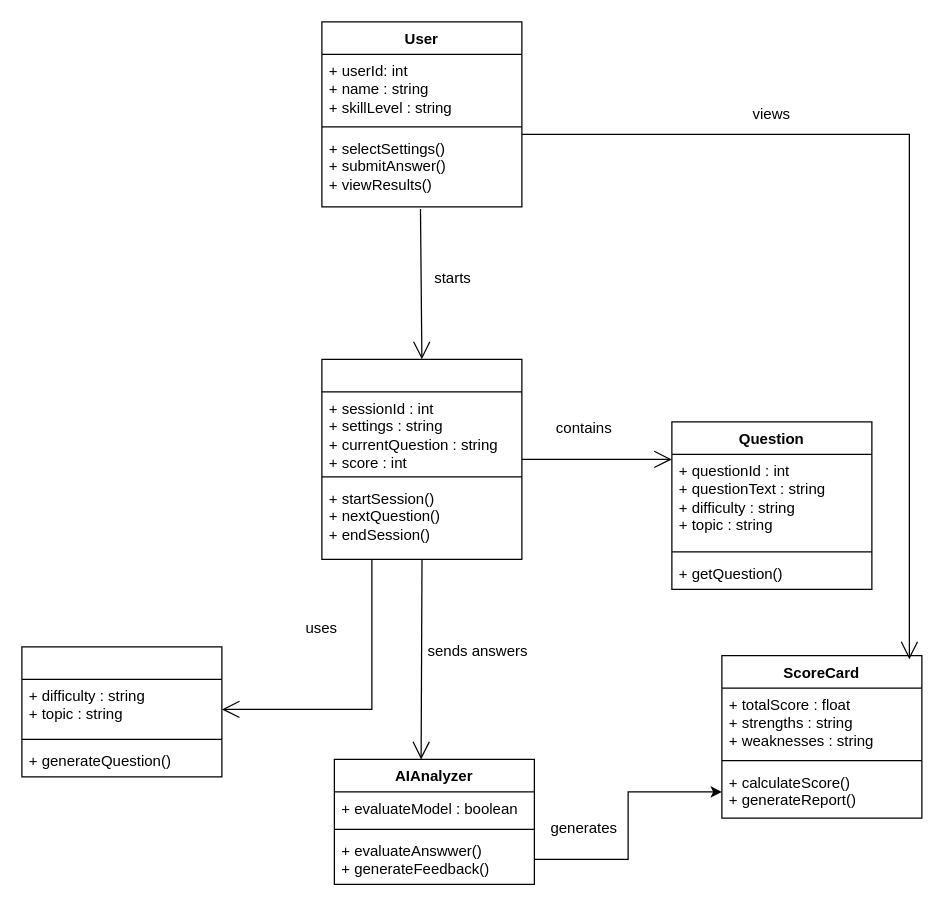
This 949x910 diagram has some shape labels left out. The box of each missing label's shape, as (x1, y1, x2, y2) in pixels:
InterviewSession: (321, 358, 522, 559)
QuestionGenerator: (21, 646, 222, 777)
